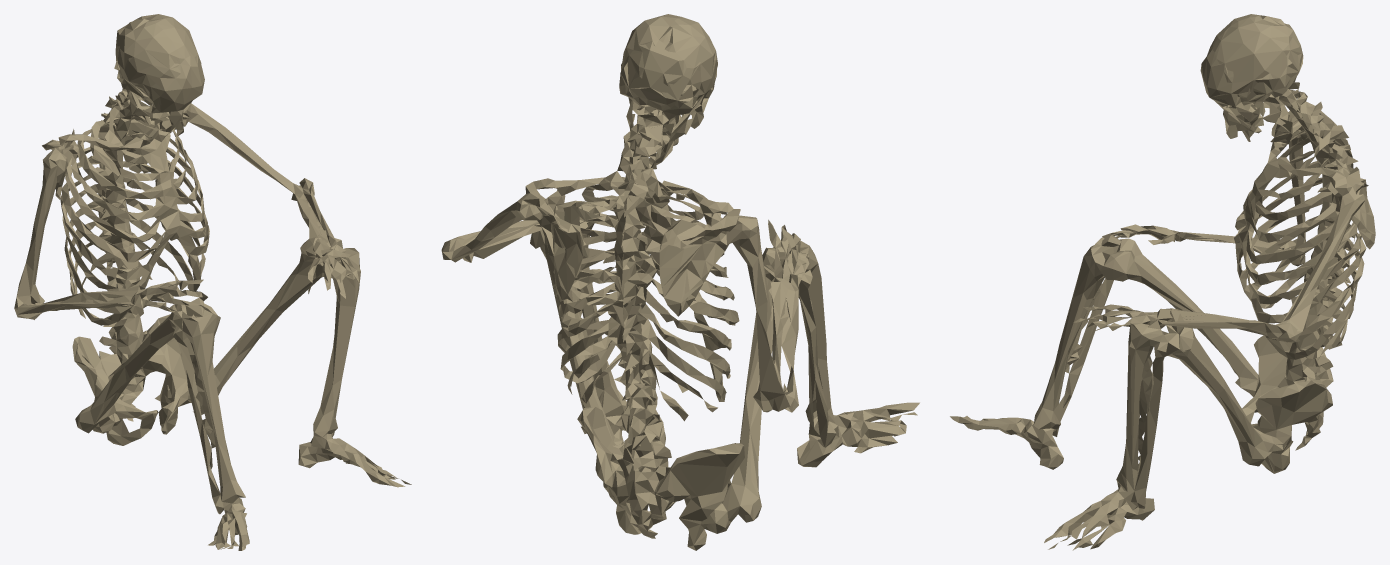
The model's file is skinnyguy.obj.
The picture shows the model from 3 angles, left to right: view 1: azimuth 30°, elevation 25°; view 2: azimuth 150°, elevation 25°; view 3: azimuth 270°, elevation 25°; orthographic projection. The views are drawn at different scales.
Parts seen in each view (by area): view 1: 24456_middle_phalanx_; view 2: 24456_middle_phalanx_; view 3: 24456_middle_phalanx_.
Part boxes in pixels (x1=…): 24456_middle_phalanx_: x1=14, y1=14, x2=411, y2=550; 24456_middle_phalanx_: x1=441, y1=14, x2=919, y2=550; 24456_middle_phalanx_: x1=950, y1=14, x2=1375, y2=550.
Bounding box in the file's own units: 23.46 × 33.14 × 27.94.
